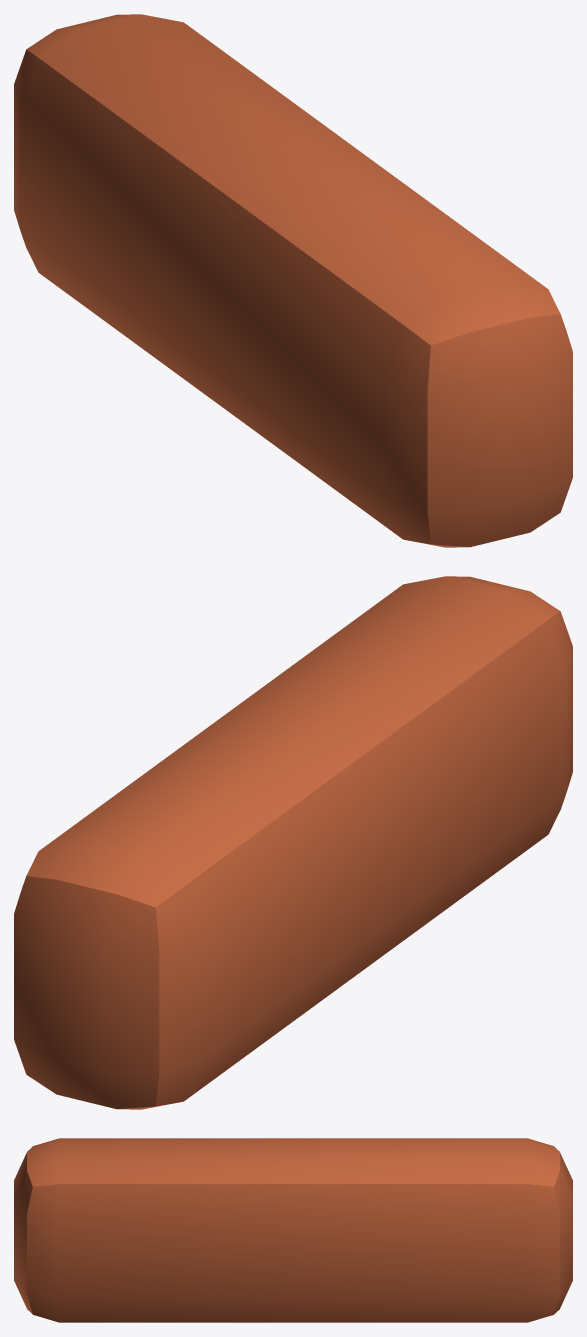
Rendered from paddle_mixer_trigger.glb.
3 renders of one model, top to bottom at view 1: azimuth 30°, elevation 25°; view 2: azimuth 150°, elevation 25°; view 3: azimuth 270°, elevation 25°, orthographic. The views are drawn at different scales.
Visible parts, largest first — view 1: paddle_mixer_trigger; view 2: paddle_mixer_trigger; view 3: paddle_mixer_trigger.
Boxes of the visible parts, x1,y1,x2,y2 form: paddle_mixer_trigger: [14, 14, 572, 547]; paddle_mixer_trigger: [14, 576, 572, 1109]; paddle_mixer_trigger: [14, 1138, 572, 1322].
Bounding box in the file's own units: 0.012 × 0.016 × 0.05.
